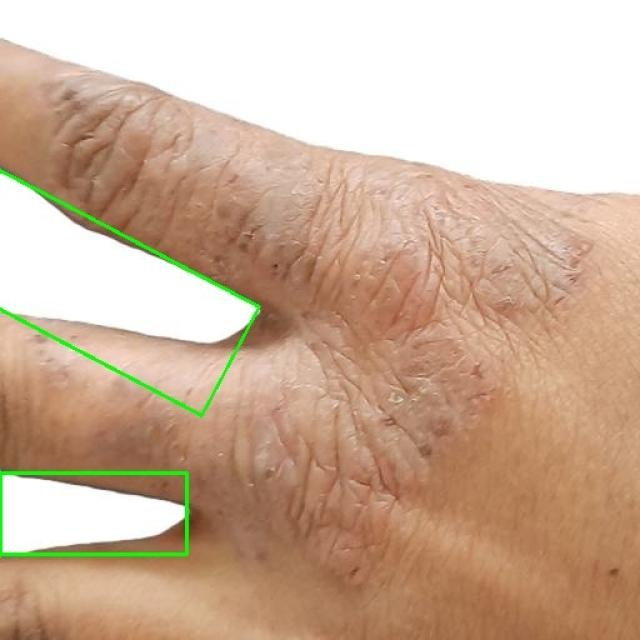Eczema: (0, 144, 271, 416), (0, 472, 186, 554)
